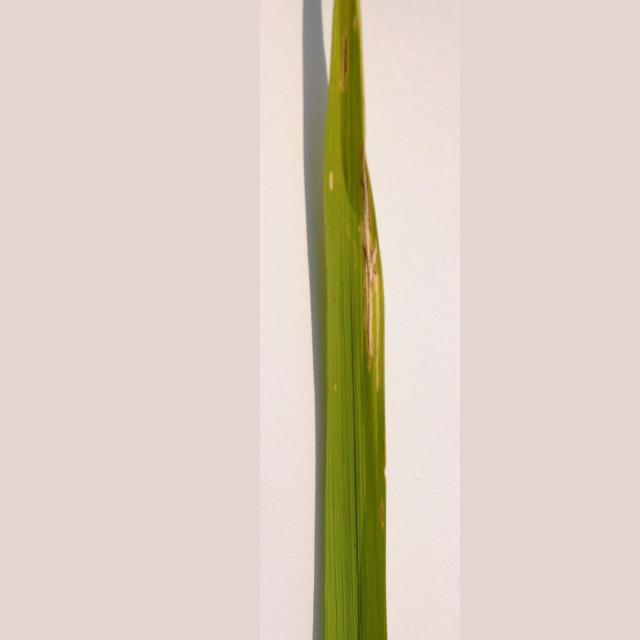Bacterial leaf blight: (258, 1, 454, 640)
